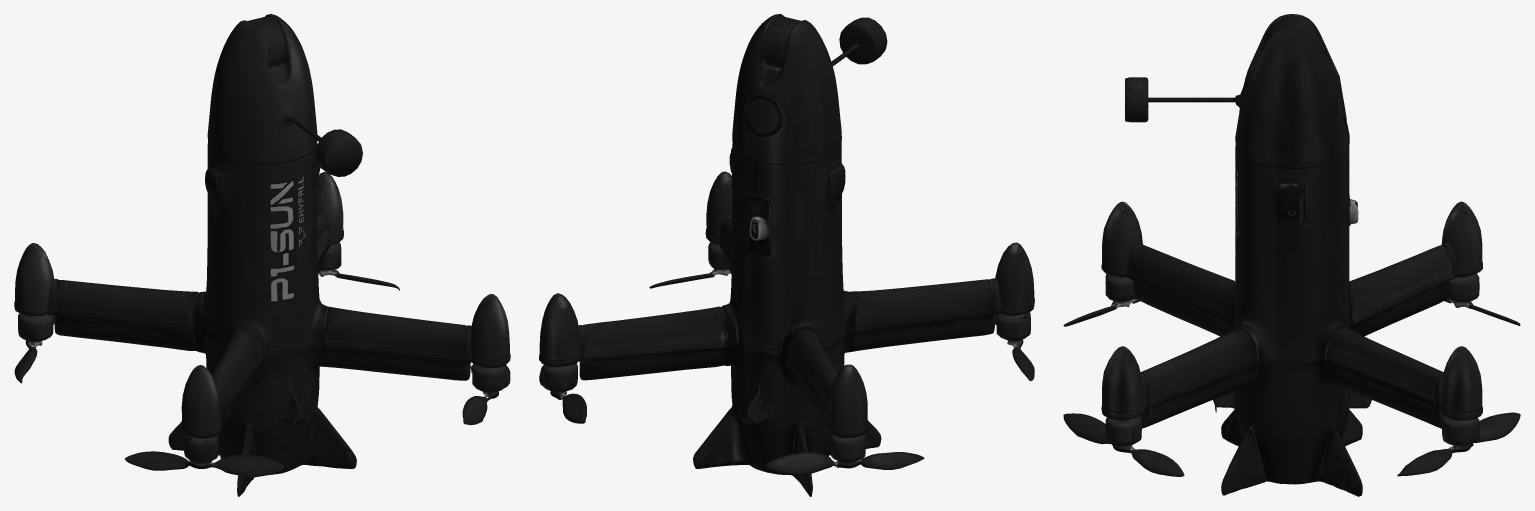
The model's file is sting.glb.
3 views of the same model, side by side, from view 1: azimuth 30°, elevation 25°; view 2: azimuth 150°, elevation 25°; view 3: azimuth 270°, elevation 25° (orthographic).
Visible parts, largest first — view 1: Object_2; view 2: Object_2; view 3: Object_2.
Boxes of the visible parts, <box> form: Object_2: <box>14,14,510,496</box>; Object_2: <box>539,14,1034,496</box>; Object_2: <box>1063,14,1520,496</box>.
Size of the model in its own units: 1.72 by 1.9 by 1.76.
1 material, 1 textured.
